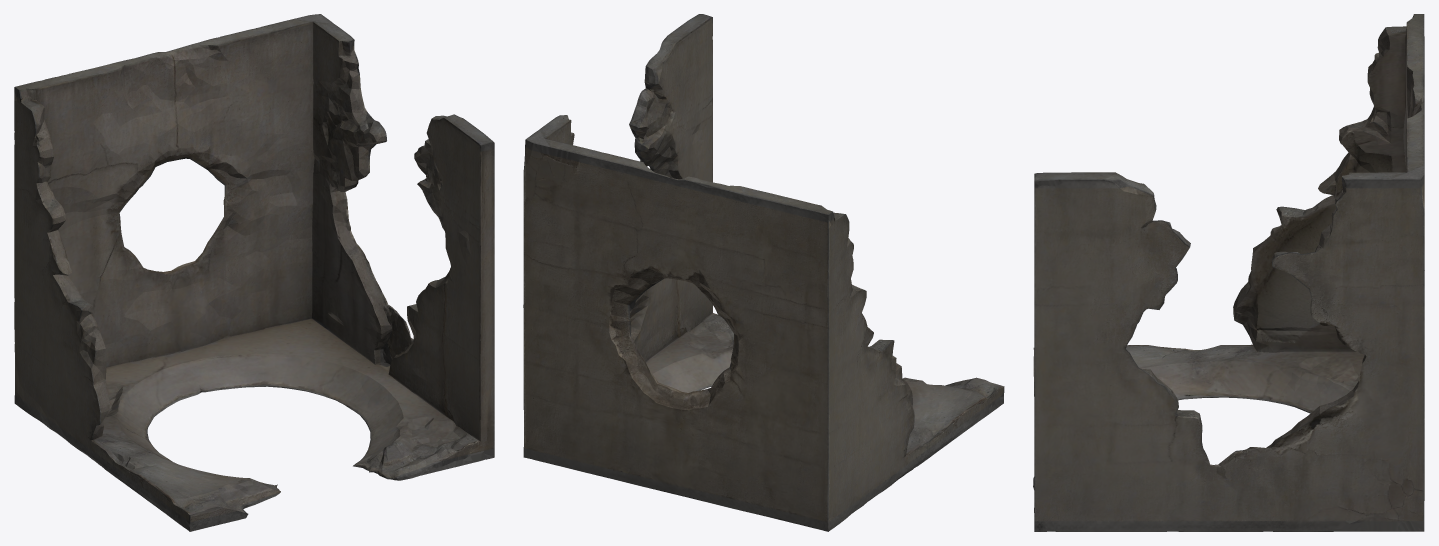
The model's file is Aperture_Void_0512104258_texture.fbx.
3 renders of one model, left to right at view 1: azimuth 30°, elevation 25°; view 2: azimuth 150°, elevation 25°; view 3: azimuth 270°, elevation 25°, orthographic. The views are drawn at different scales.
Visible parts, largest first — view 1: temp; view 2: temp; view 3: temp.
Part boxes in pixels (left/top/right/bottom): temp: left=14, top=14, right=494, bottom=531; temp: left=523, top=14, right=1004, bottom=531; temp: left=1033, top=14, right=1424, bottom=531.
Bounding box in the file's own units: 199 × 197 × 199.
Materials: 1 (1 with a texture image).
